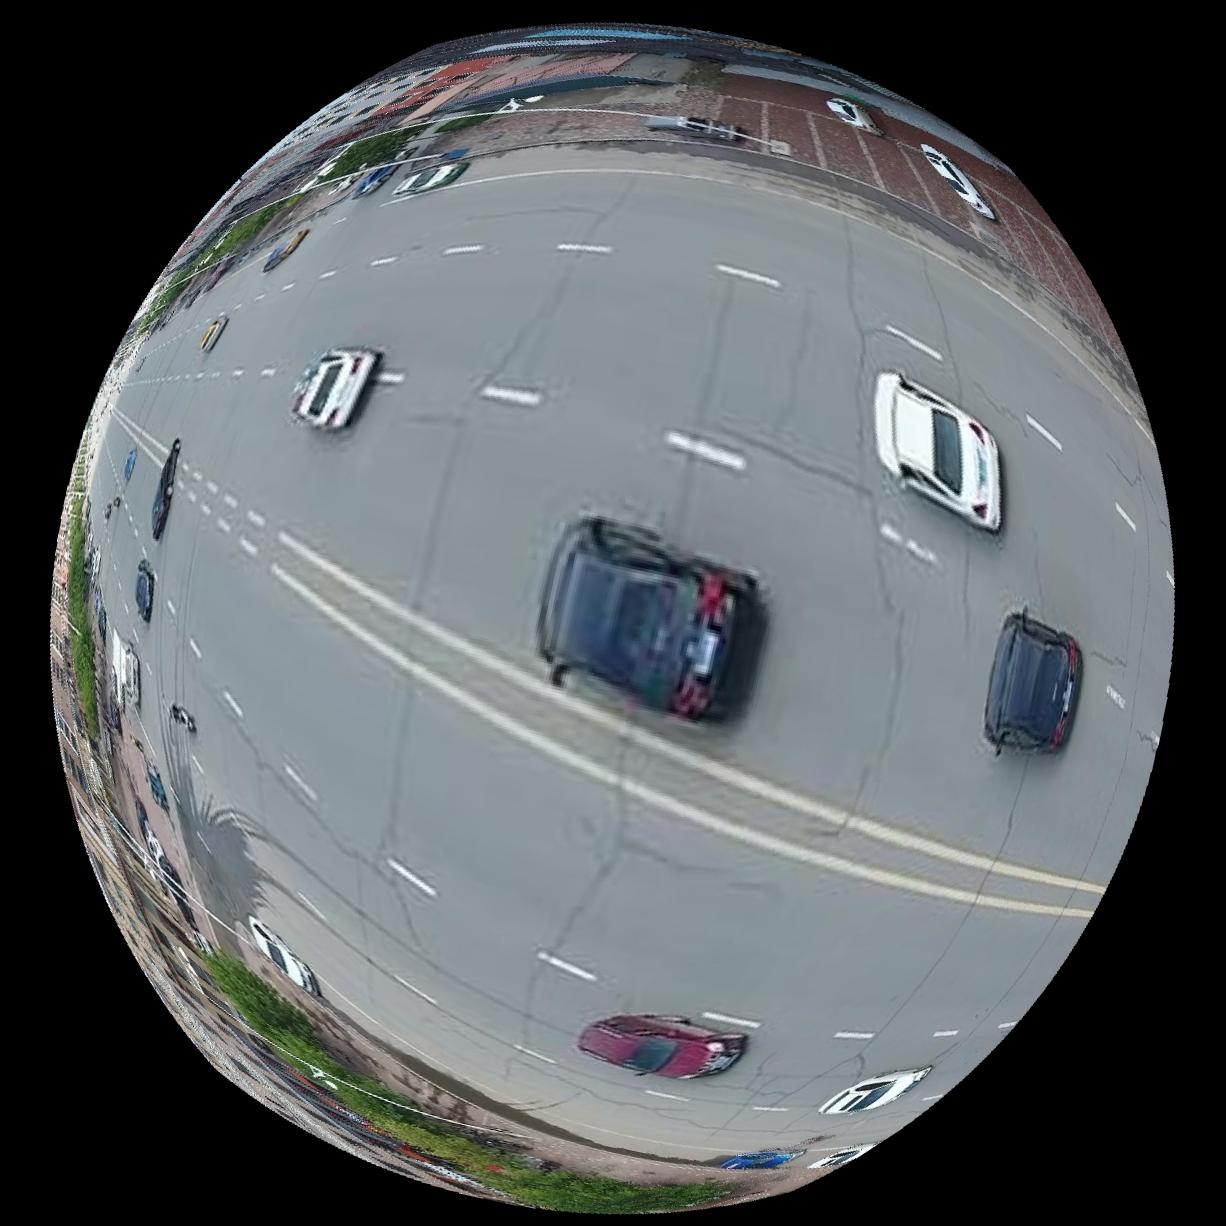cars: (537, 515, 756, 722), (876, 370, 1003, 531), (986, 609, 1083, 753), (577, 1014, 748, 1080), (290, 346, 379, 428), (923, 141, 998, 218), (248, 916, 318, 997), (820, 1068, 933, 1115), (149, 438, 180, 539), (644, 112, 747, 140), (393, 158, 468, 195), (827, 94, 884, 131), (263, 226, 309, 269), (349, 163, 395, 196), (132, 559, 153, 621), (199, 312, 228, 350)
trees: (201, 950, 731, 1215)
